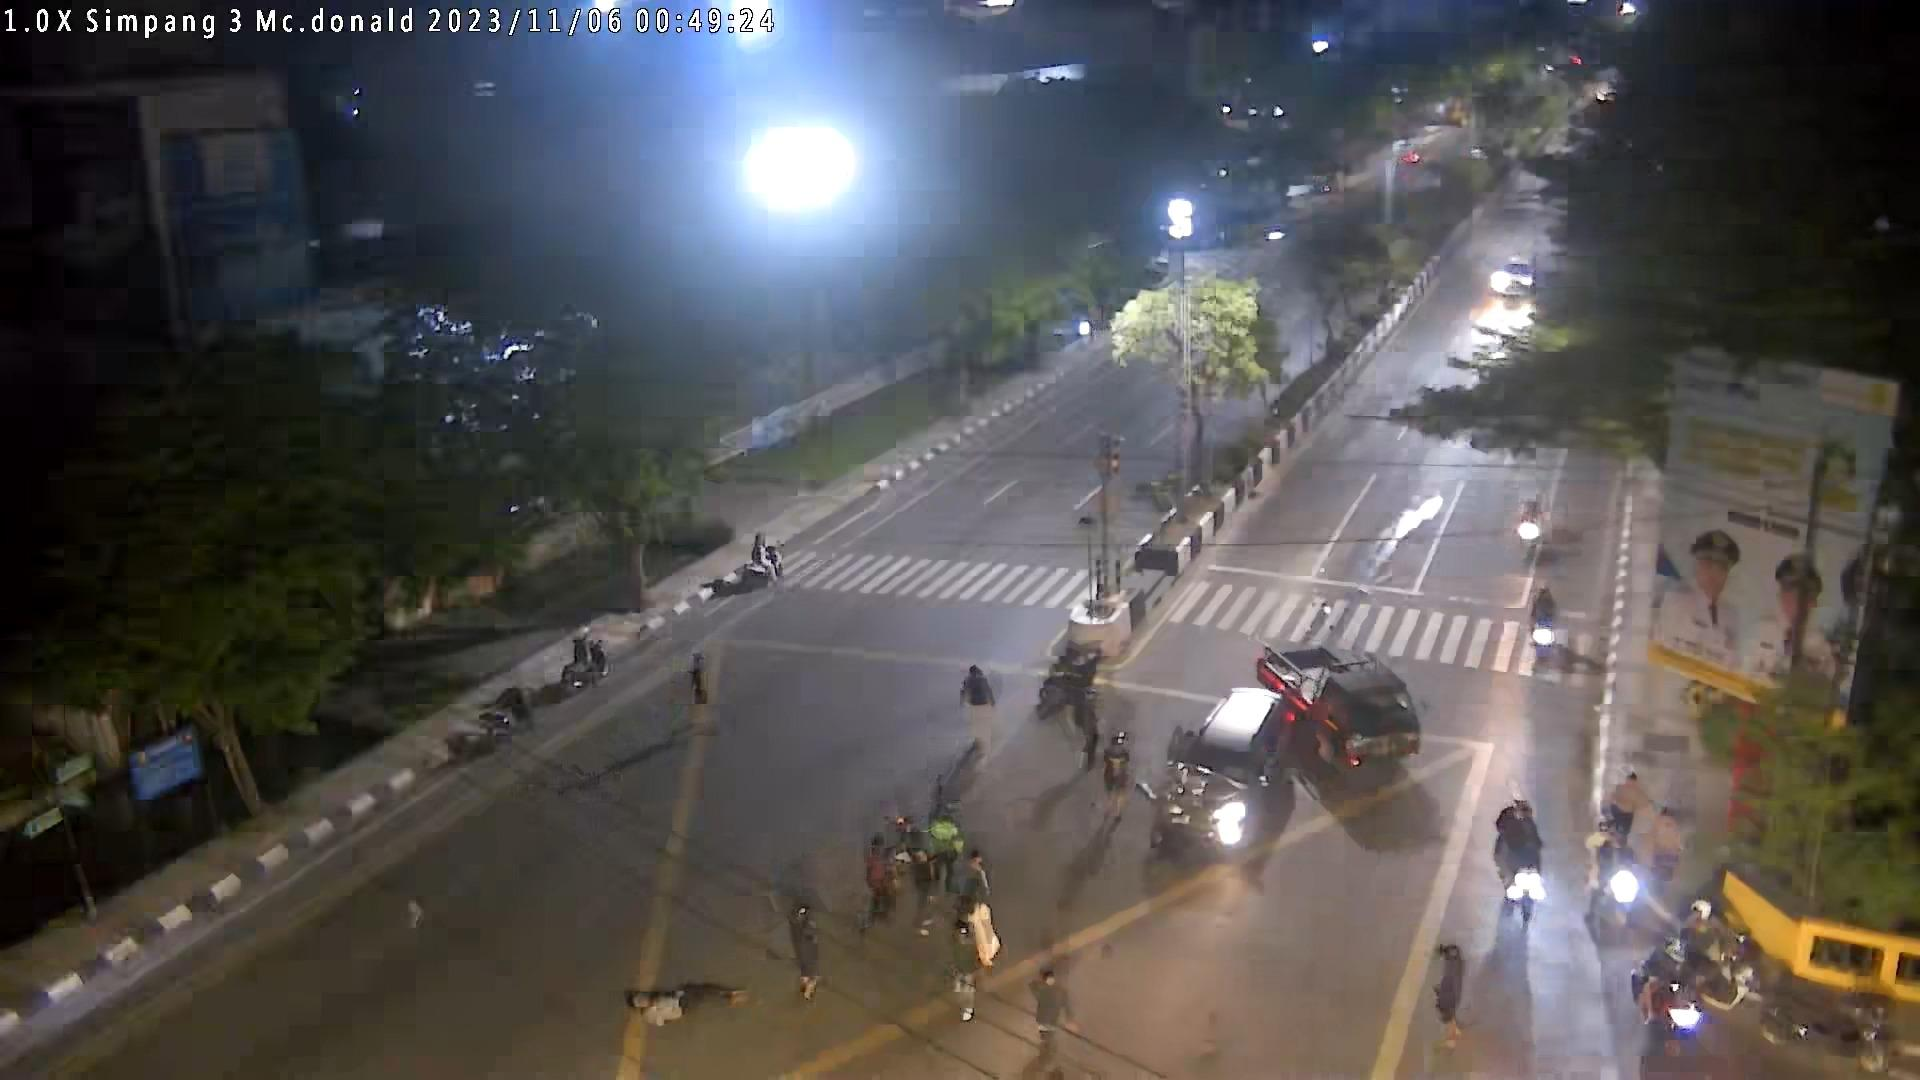accident: (624, 980, 749, 1026)
